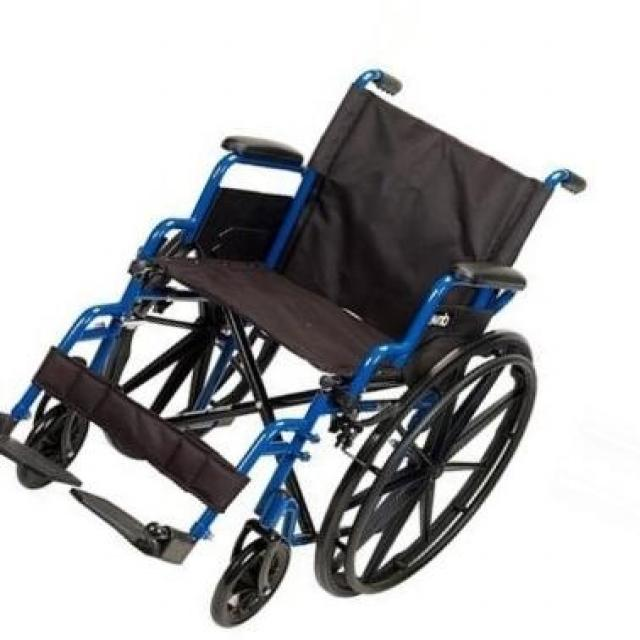wheelchair: (0, 59, 590, 640)
